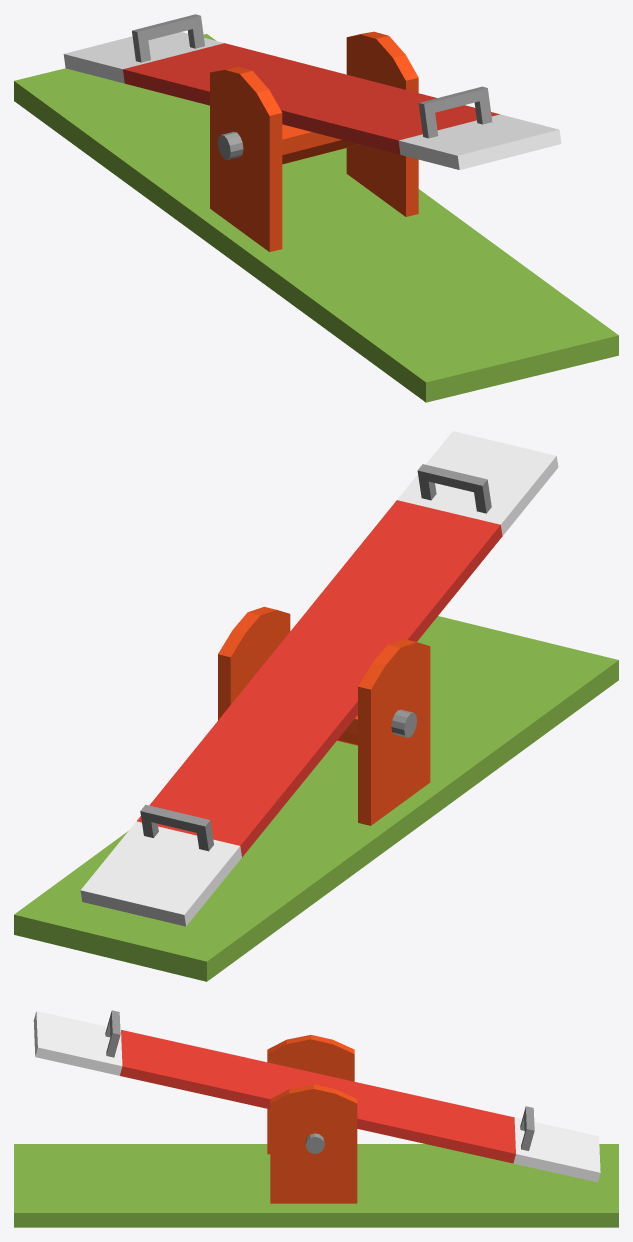
The model's file is Seasaw.glb.
3 renders of one model, top to bottom at view 1: azimuth 30°, elevation 25°; view 2: azimuth 150°, elevation 25°; view 3: azimuth 270°, elevation 25°, orthographic. The views are drawn at different scales.
Visible parts, largest first — view 1: Node; view 2: Node; view 3: Node.
Part boxes in pixels (x1,y1,x2,y2): Node: (14, 14, 618, 402); Node: (14, 431, 618, 981); Node: (14, 1010, 618, 1227).
Bounding box in the file's own units: 0.6 × 0.6954 × 2.22.
